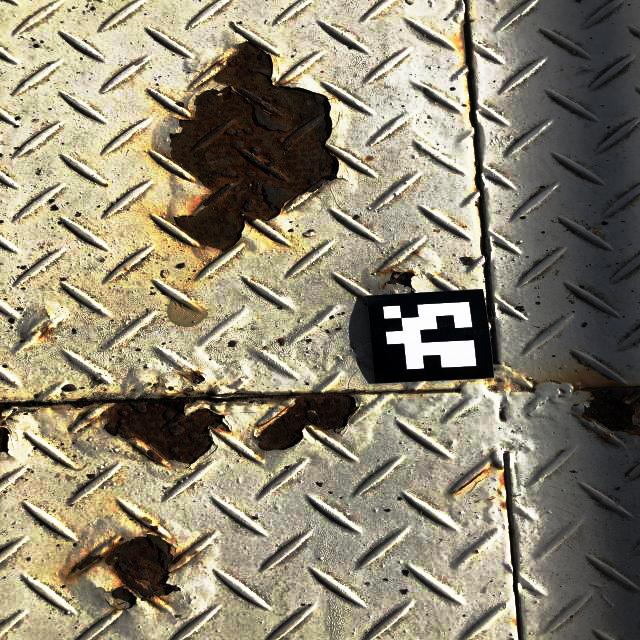Corrosion: (170, 42, 338, 249), (73, 536, 185, 611), (103, 399, 222, 464), (256, 395, 357, 451), (584, 387, 640, 436), (454, 468, 487, 495), (388, 270, 415, 288), (0, 425, 11, 455), (144, 448, 163, 464), (190, 372, 204, 384), (500, 471, 506, 489), (149, 524, 159, 531)
